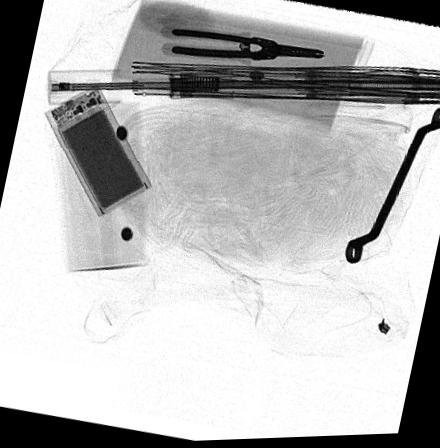Pliers: (169, 28, 324, 62)
Powerbank: (43, 80, 152, 216)
Wrench: (343, 110, 440, 266)
